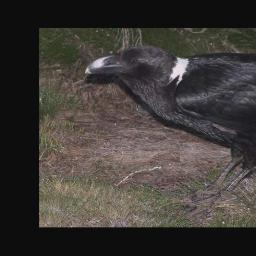Crow: (84, 44, 256, 221)
